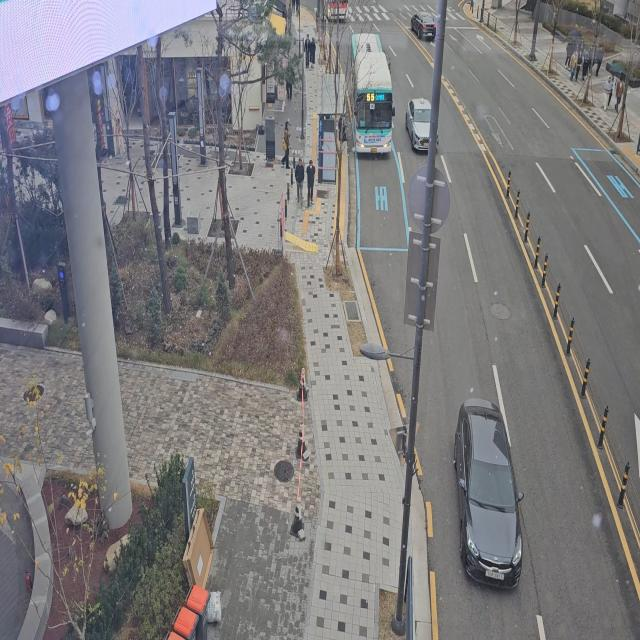Bus: (347, 26, 395, 160), (322, 0, 354, 25)
Car: (453, 375, 529, 598), (404, 81, 447, 155), (411, 3, 443, 43)
